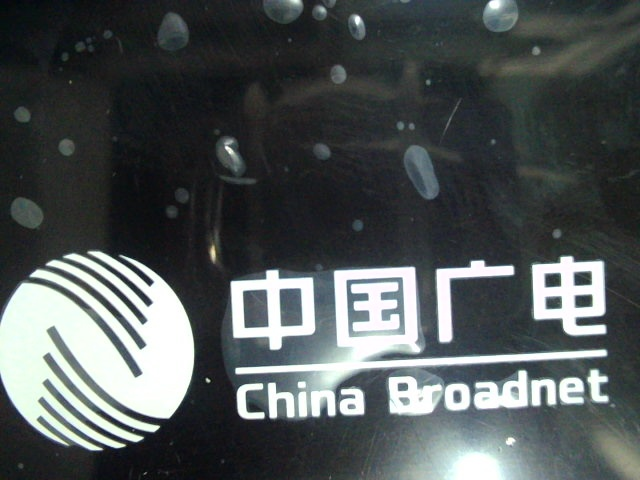AW_ChinaBroadNet: (1, 245, 621, 452)
